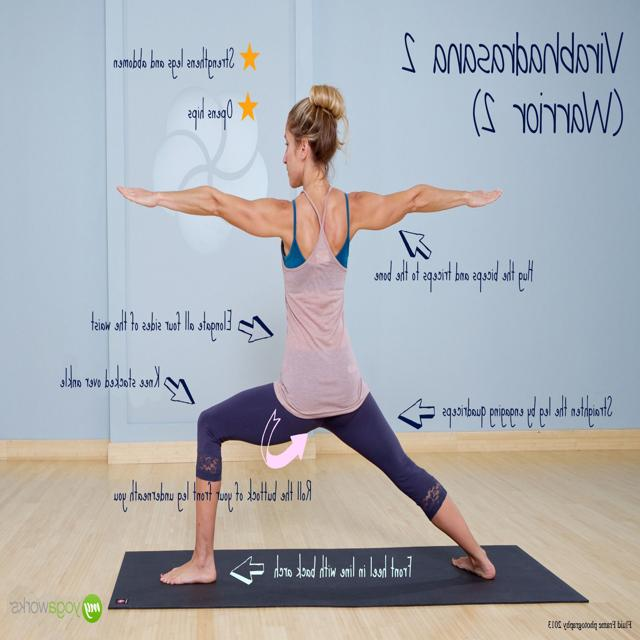Warrior_II: (113, 88, 503, 582)
